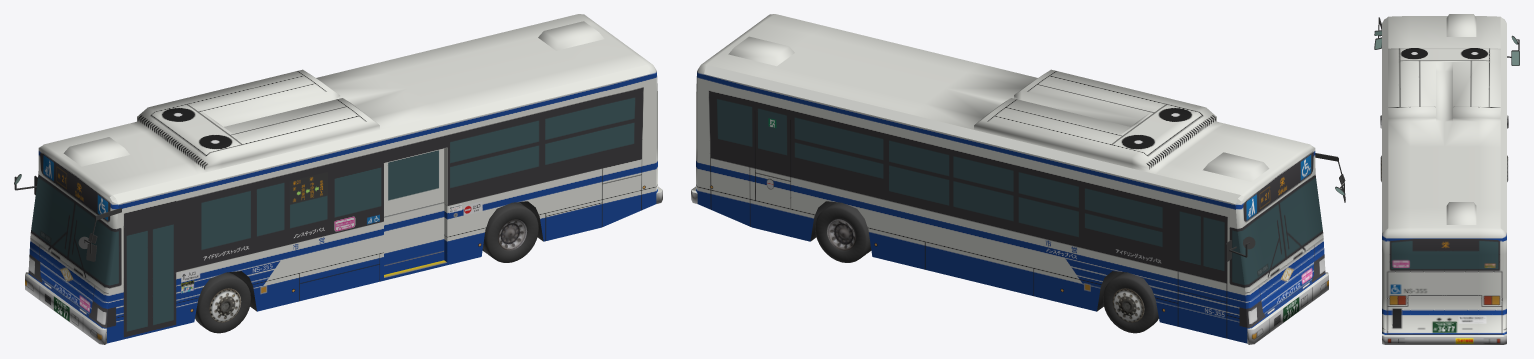
The model's file is bus.fbx.
3 renders of one model, left to right at view 1: azimuth 30°, elevation 25°; view 2: azimuth 150°, elevation 25°; view 3: azimuth 270°, elevation 25°, orthographic. The views are drawn at different scales.
Parts seen in each view (by area): view 1: Cube.004; view 2: Cube.004; view 3: Cube.004.
Part boxes in pixels (x1,y1,x2,y2): Cube.004: (14, 14, 662, 344); Cube.004: (691, 14, 1345, 344); Cube.004: (1374, 14, 1519, 344).
Size of the model in its own units: 1609 by 460 by 429.
